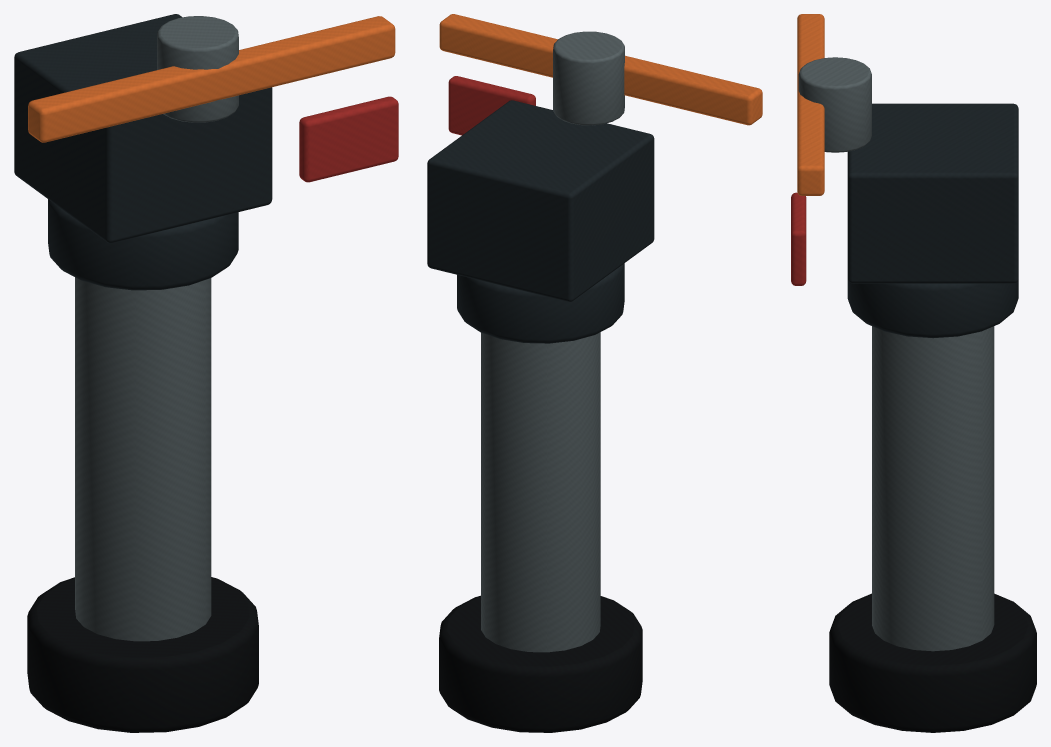
Rendered from EmergencyShutoffValve.glb.
The picture shows the model from 3 angles, left to right: view 1: azimuth 30°, elevation 25°; view 2: azimuth 150°, elevation 25°; view 3: azimuth 270°, elevation 25°; orthographic projection. The views are drawn at different scales.
Visible parts, largest first — view 1: EmergencyShutoffValve_Mesh; view 2: EmergencyShutoffValve_Mesh; view 3: EmergencyShutoffValve_Mesh.
Boxes of the visible parts, x1,y1,x2,y2 form: EmergencyShutoffValve_Mesh: (14,14,398,732); EmergencyShutoffValve_Mesh: (427,14,762,732); EmergencyShutoffValve_Mesh: (791,14,1036,732).
Size of the model in its own units: 0.6 by 1.14 by 0.4025.
Materials: 5 (5 with a texture image).
